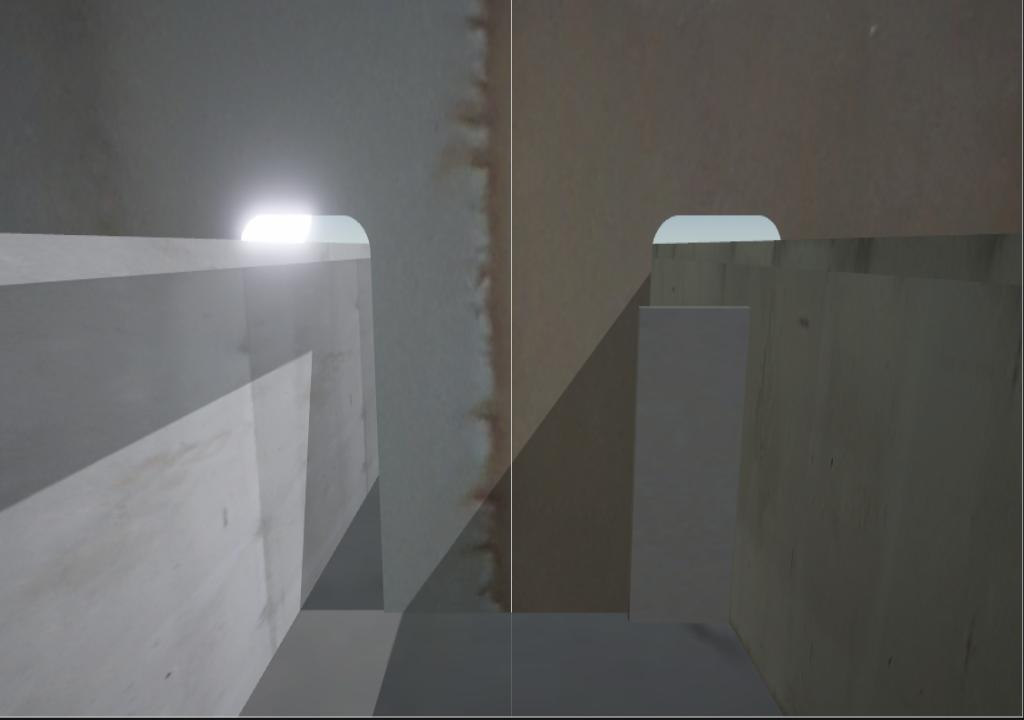fillet_yong_jeop_jang: (366, 602, 629, 624)
plate_CP01: (629, 305, 747, 627)
